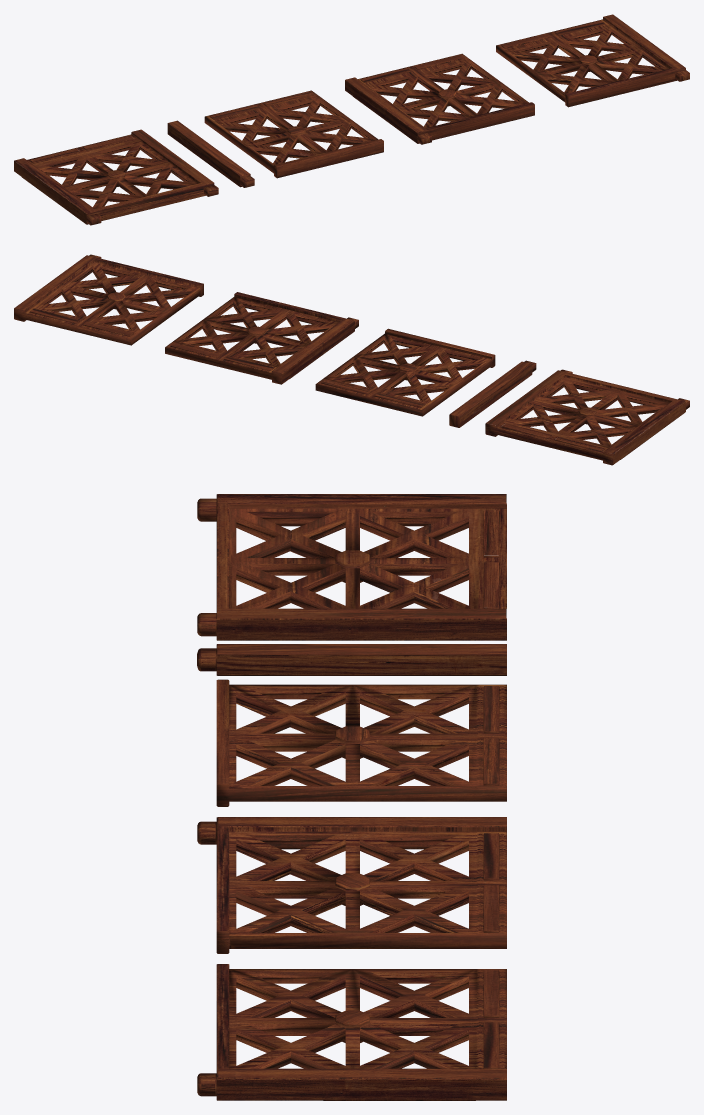
Rendered from podium_railing.glb.
The picture shows the model from 3 angles, top to bottom: view 1: azimuth 30°, elevation 25°; view 2: azimuth 150°, elevation 25°; view 3: azimuth 270°, elevation 25°; orthographic projection. The views are drawn at different scales.
Visible parts, largest first — view 1: Fence_01_Baked_Rail_Bake_0; view 2: Fence_01_Baked_Rail_Bake_0; view 3: Fence_01_Baked_Rail_Bake_0.
Part boxes in pixels (x1,y1,x2,y2): Fence_01_Baked_Rail_Bake_0: (14, 14, 689, 225); Fence_01_Baked_Rail_Bake_0: (14, 254, 689, 465); Fence_01_Baked_Rail_Bake_0: (197, 494, 506, 1100).
Bounding box in the file's own units: 9.35 × 0.1879 × 2.09.
4 materials, 4 textured.
